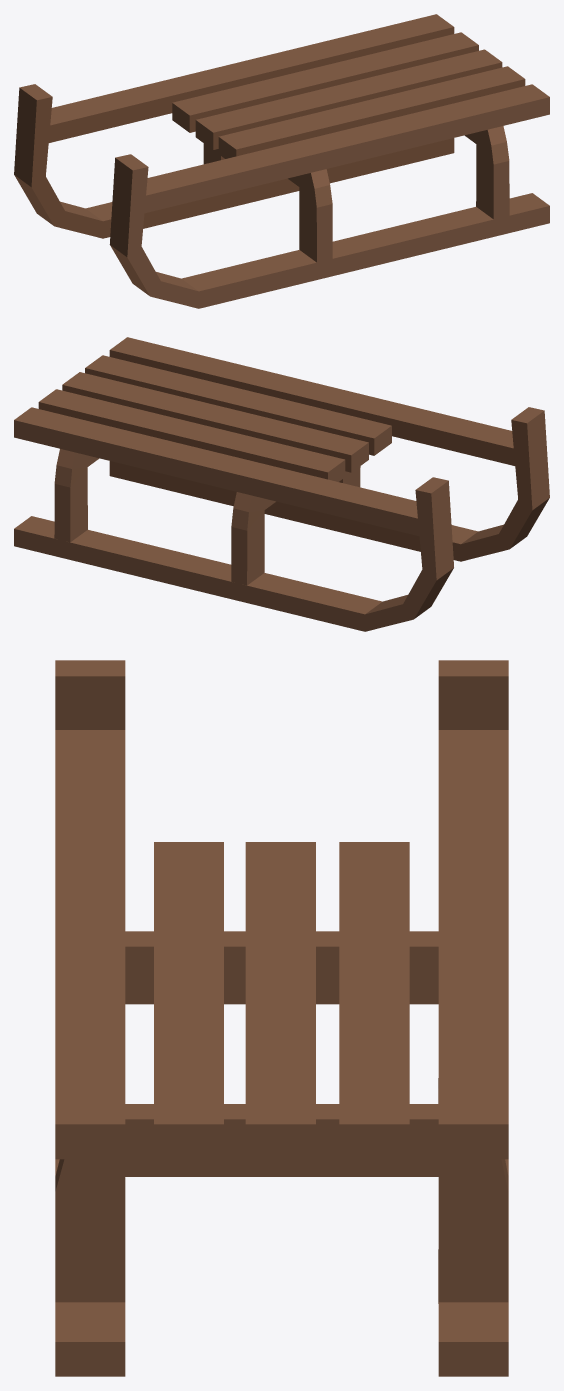
File: Sledge_Alt1.fbx
3 views of the same model, one above another, from view 1: azimuth 30°, elevation 25°; view 2: azimuth 150°, elevation 25°; view 3: azimuth 270°, elevation 25° (orthographic). The views are drawn at different scales.
Parts seen in each view (by area): view 1: Sledge_Alt1; view 2: Sledge_Alt1; view 3: Sledge_Alt1.
Boxes of the visible parts, left/top/right/bottom form: Sledge_Alt1: left=14, top=14, right=549, bottom=308; Sledge_Alt1: left=14, top=337, right=549, bottom=631; Sledge_Alt1: left=55, top=660, right=508, bottom=1376.
Size of the model in its own units: 0.6373 by 0.2228 by 0.296.
